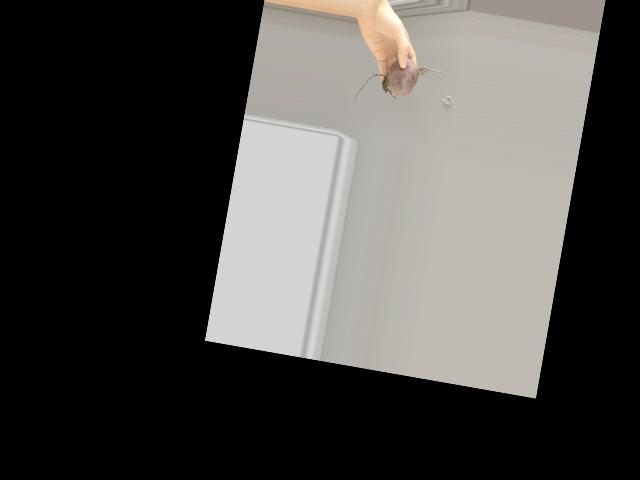beet: (353, 50, 452, 121)
